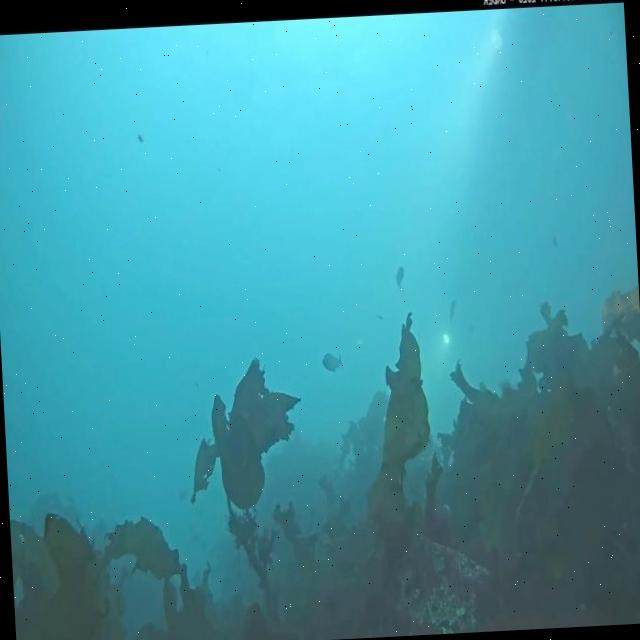fish: (322, 351, 343, 374), (394, 266, 406, 292), (447, 297, 457, 324)
